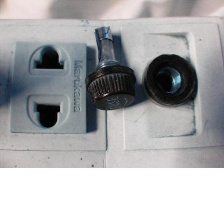three_eye_plug: (0, 10, 224, 170)
